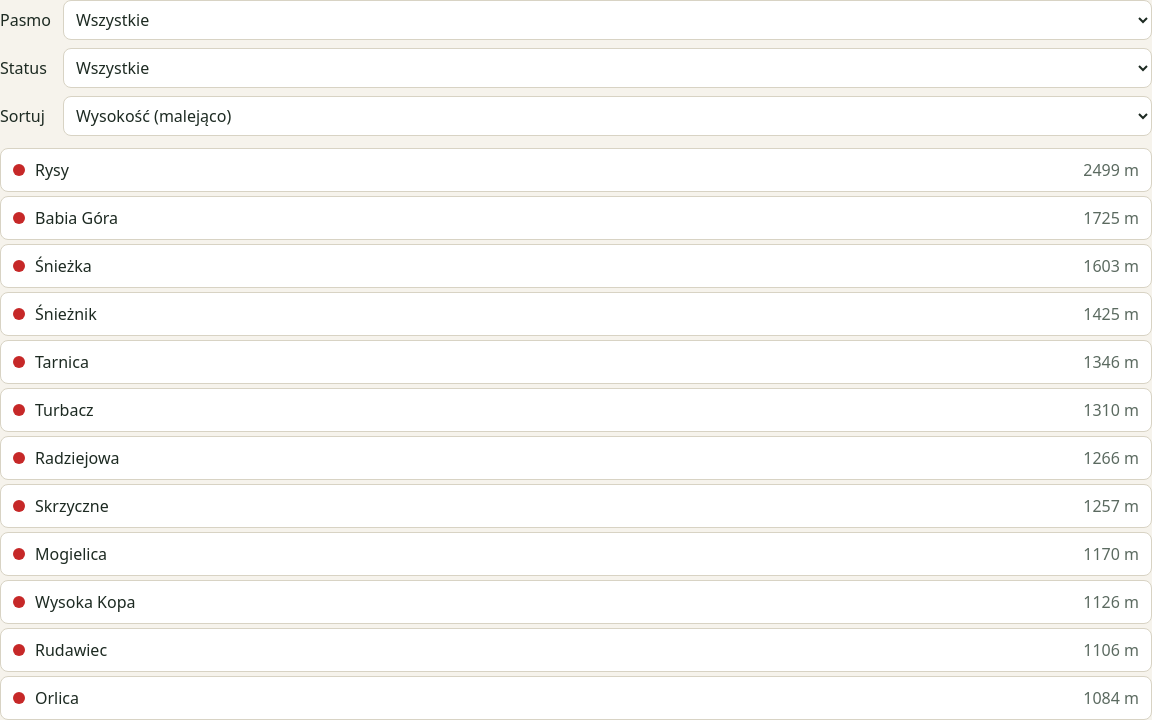
Test case: PeakList › filters by range and sorts by name via the selects
The width and height of the screenshot is (1152, 720).
Select "Nazwa" in the dropdown labelled "Sortuj" at (608, 116), box top-left (63, 96), bottom-right (1151, 136)
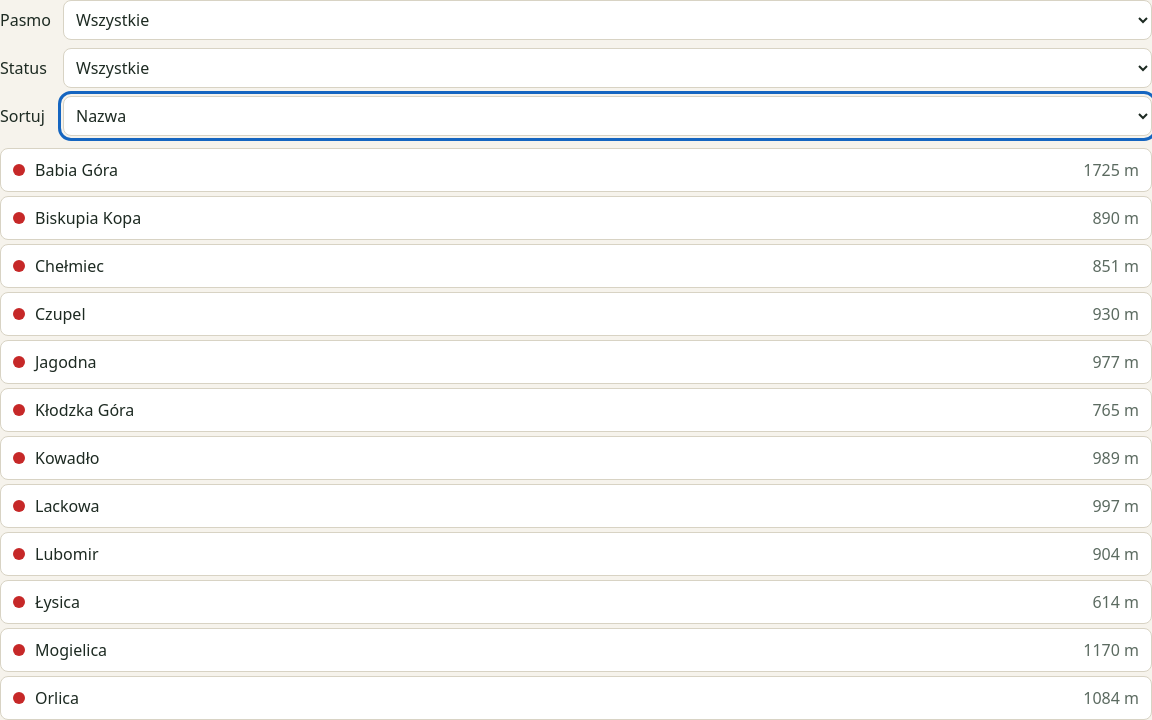
Select "Tatry" in the dropdown labelled "Pasmo" at (608, 20), box top-left (63, 0), bottom-right (1151, 40)
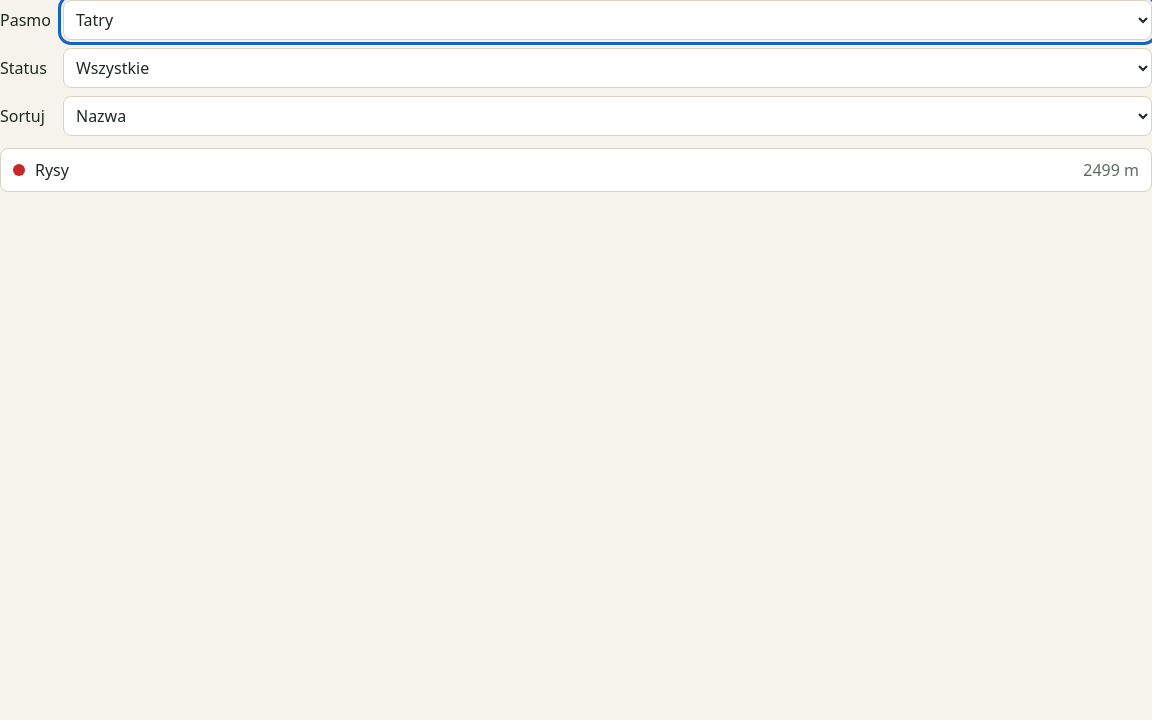
Now the number of list items is 1, box top-left (0, 148), bottom-right (1151, 192)
